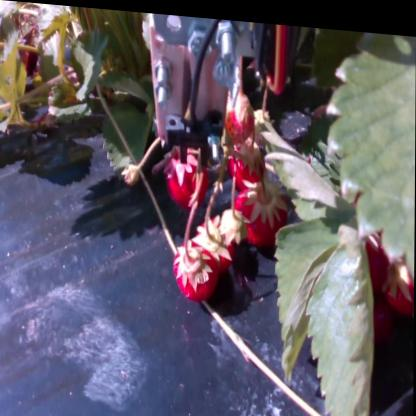ripe: (241, 183, 291, 238), (174, 240, 213, 294), (168, 156, 209, 202), (195, 220, 234, 264), (388, 254, 415, 309), (230, 142, 265, 182), (226, 98, 253, 136)
